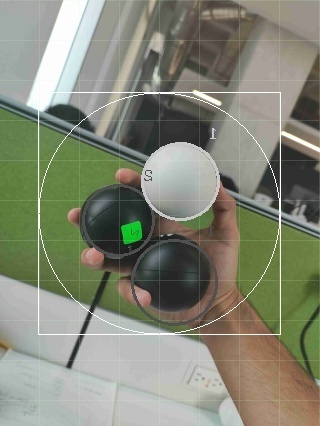Pelota blanca: (141, 140, 222, 222)
Pelota negra: (133, 233, 220, 328), (79, 182, 156, 259)
Pelota roja: (79, 246, 105, 270), (114, 166, 143, 187), (66, 206, 81, 227)
